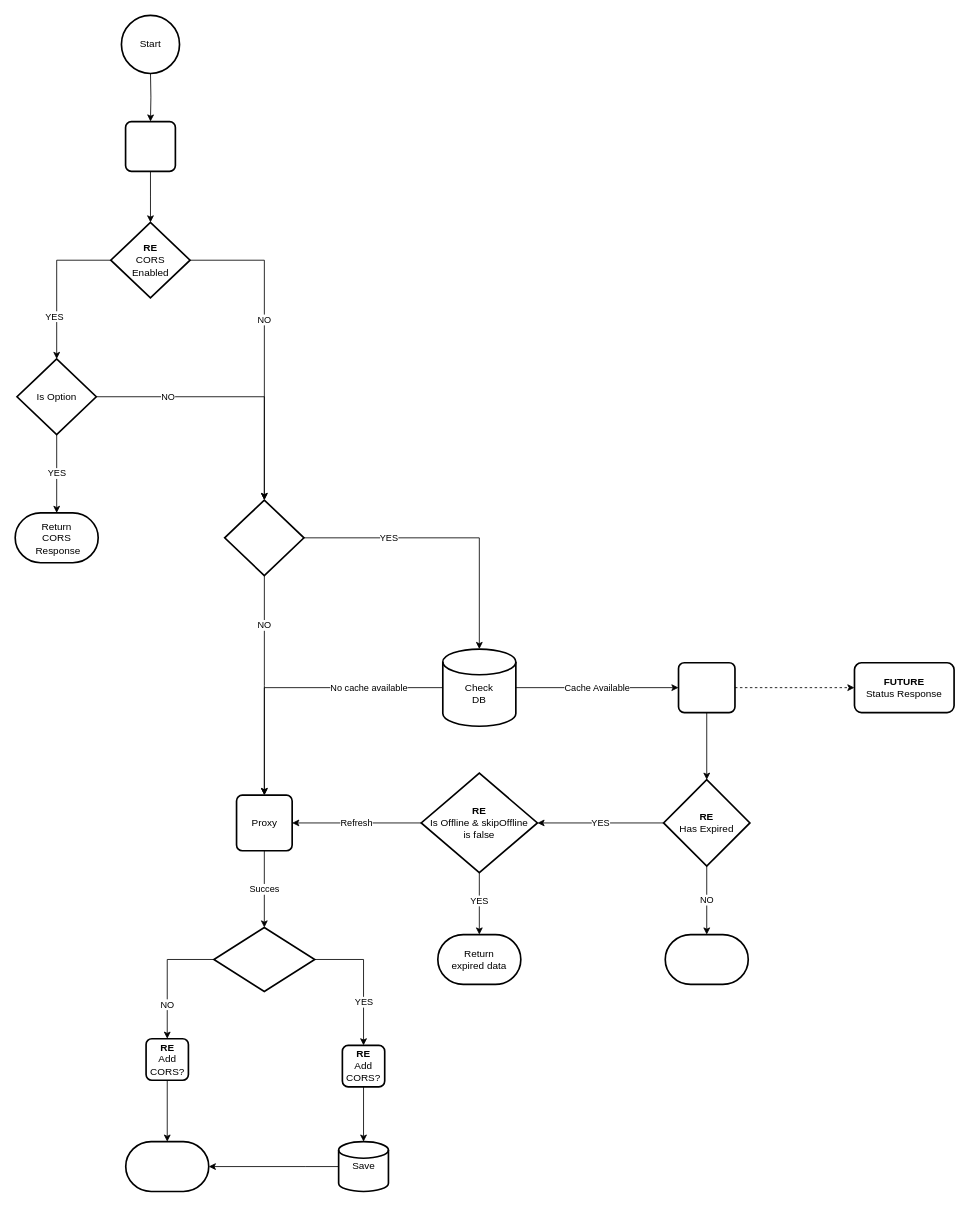
Image size: 969x1206. Some labels were removed from this diagram. Here are the shapes that lost their labels. From the top down, the box of each, then its label:
(124, 120, 176, 172): Query
(223, 499, 304, 576): RE Check for cache?
(677, 662, 735, 713): Response
(213, 926, 315, 992): RE Alowed to save
(664, 933, 749, 985): Return cached data
(124, 1140, 209, 1192): Return Proxied data
